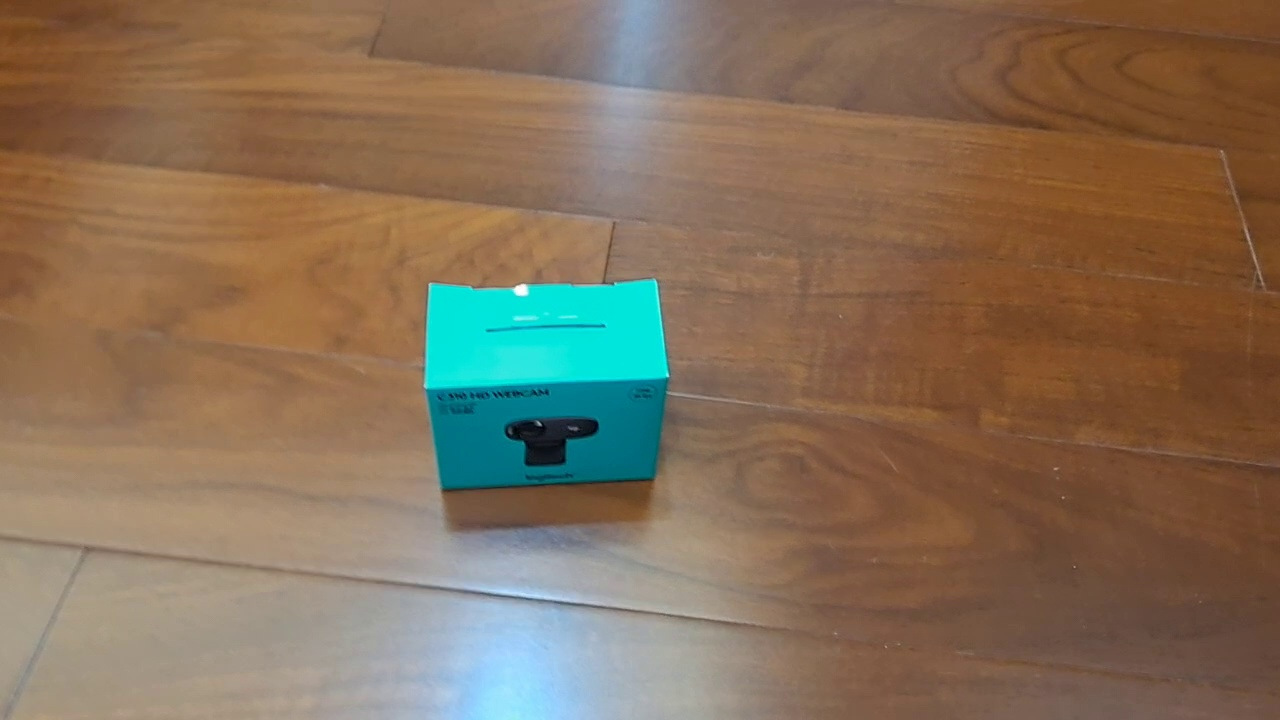webcam: (421, 277, 670, 492)
